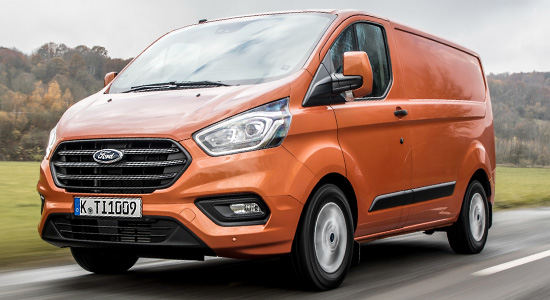van: (36, 7, 497, 287)
